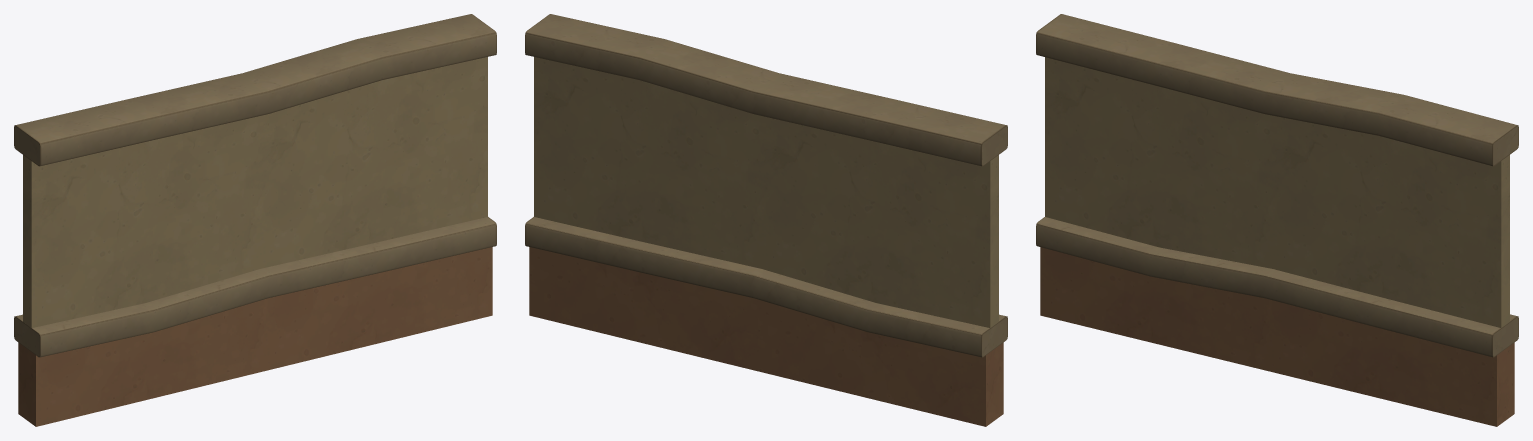
File: SM_building_fence_01.glb
The picture shows the model from 3 angles, left to right: view 1: azimuth 30°, elevation 25°; view 2: azimuth 150°, elevation 25°; view 3: azimuth 330°, elevation 25°; orthographic projection.
Parts seen in each view (by area): view 1: SM_building_fence_01; view 2: SM_building_fence_01; view 3: SM_building_fence_01.
Boxes of the visible parts, x1=… form: SM_building_fence_01: x1=14, y1=14, x2=496, y2=426; SM_building_fence_01: x1=525, y1=14, x2=1007, y2=426; SM_building_fence_01: x1=1036, y1=14, x2=1518, y2=426.
Size of the model in its own units: 6 by 3.63 by 0.6.
Materials: 3 (3 with a texture image).
